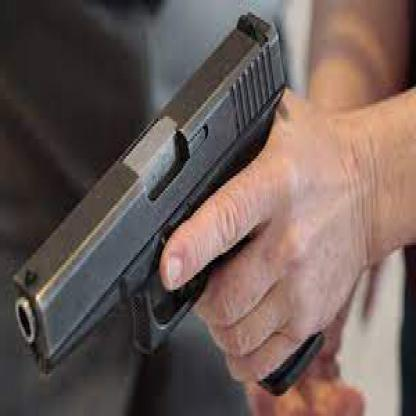gun: (4, 2, 309, 404)
